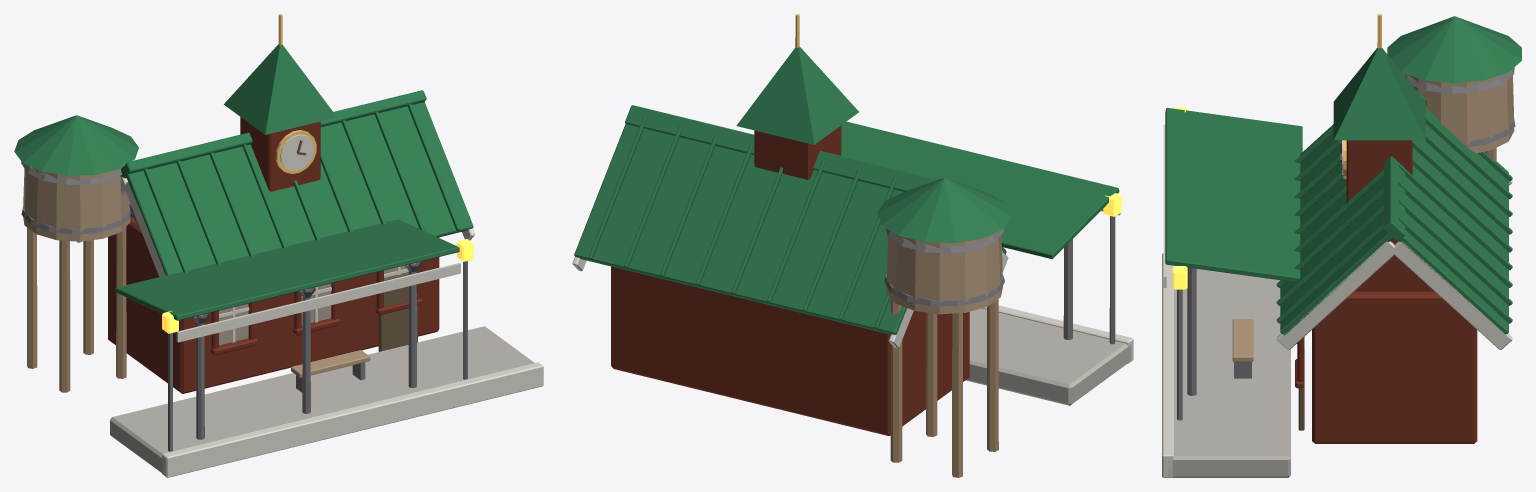
The model's file is bld_station_e2.glb.
The picture shows the model from 3 angles, left to right: view 1: azimuth 30°, elevation 25°; view 2: azimuth 150°, elevation 25°; view 3: azimuth 270°, elevation 25°; orthographic projection. The views are drawn at different scales.
Parts seen in each view (by area): view 1: station; view 2: station; view 3: station.
Boxes of the visible parts, left/top/right/bottom form: station: left=14, top=14, right=543, bottom=477; station: left=572, top=14, right=1133, bottom=477; station: left=1162, top=14, right=1521, bottom=477.
Bounding box in the file's own units: 1.65 × 1.38 × 1.2.
